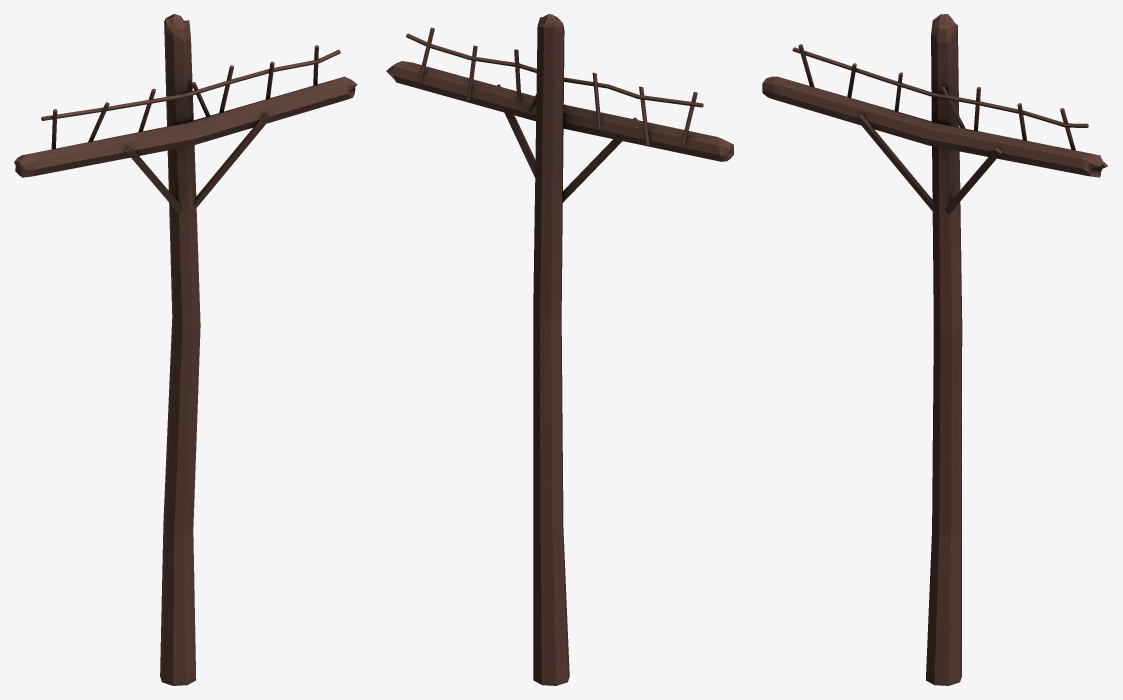
File: Electric.fbx
3 renders of one model, left to right at view 1: azimuth 30°, elevation 25°; view 2: azimuth 150°, elevation 25°; view 3: azimuth 330°, elevation 25°, orthographic.
Parts seen in each view (by area): view 1: Electric; view 2: Electric; view 3: Electric.
Boxes of the visible parts, x1,y1,x2,y2 form: Electric: [14, 14, 357, 685]; Electric: [386, 14, 733, 685]; Electric: [762, 14, 1107, 685].
Size of the model in its own units: 133 by 245 by 19.09.
